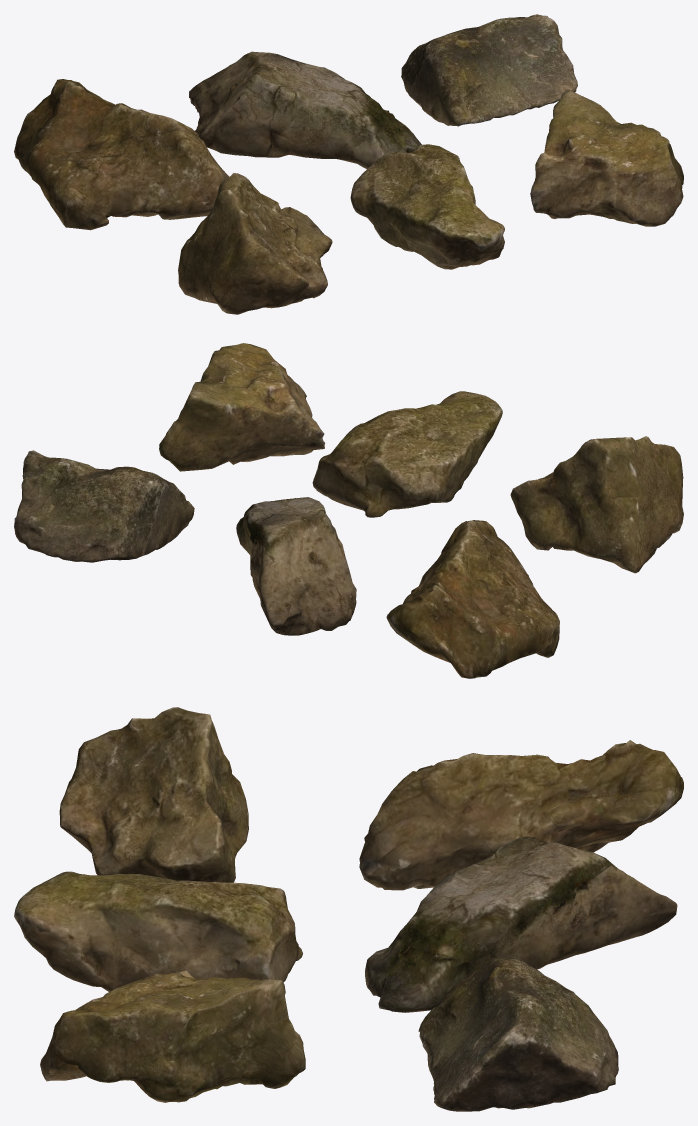
Rendered from rocks.glb.
The picture shows the model from 3 angles, top to bottom: view 1: azimuth 30°, elevation 25°; view 2: azimuth 150°, elevation 25°; view 3: azimuth 270°, elevation 25°; orthographic projection. The views are drawn at different scales.
Visible parts, largest first — view 1: rock_moss_set_01_rock01, rock_moss_set_01_rock02, rock_moss_set_01_rock06, rock_moss_set_01_rock04, rock_moss_set_01_rock03, rock_moss_set_01_rock05; view 2: rock_moss_set_01_rock04, rock_moss_set_01_rock01, rock_moss_set_01_rock05, rock_moss_set_01_rock03, rock_moss_set_01_rock06, rock_moss_set_01_rock02; view 3: rock_moss_set_01_rock01, rock_moss_set_01_rock02, rock_moss_set_01_rock05, rock_moss_set_01_rock04, rock_moss_set_01_rock06, rock_moss_set_01_rock03.
Part boxes in pixels (x1,y1,x2,y2): rock_moss_set_01_rock01: (14, 79, 229, 230); rock_moss_set_01_rock02: (189, 51, 421, 169); rock_moss_set_01_rock06: (530, 90, 683, 226); rock_moss_set_01_rock04: (178, 173, 332, 314); rock_moss_set_01_rock03: (401, 14, 577, 126); rock_moss_set_01_rock05: (350, 144, 504, 269); rock_moss_set_01_rock04: (510, 436, 683, 573); rock_moss_set_01_rock01: (386, 520, 559, 678); rock_moss_set_01_rock05: (312, 391, 502, 517); rock_moss_set_01_rock03: (14, 450, 194, 562); rock_moss_set_01_rock06: (159, 343, 325, 471); rock_moss_set_01_rock02: (236, 497, 356, 635); rock_moss_set_01_rock01: (359, 740, 683, 890); rock_moss_set_01_rock02: (365, 836, 677, 1012); rock_moss_set_01_rock05: (14, 871, 302, 991); rock_moss_set_01_rock04: (59, 707, 248, 882); rock_moss_set_01_rock06: (40, 970, 305, 1102); rock_moss_set_01_rock03: (418, 956, 618, 1111).
Bounding box in the file's own units: 8 × 1.76 × 6.94.
1 material, 1 textured.
